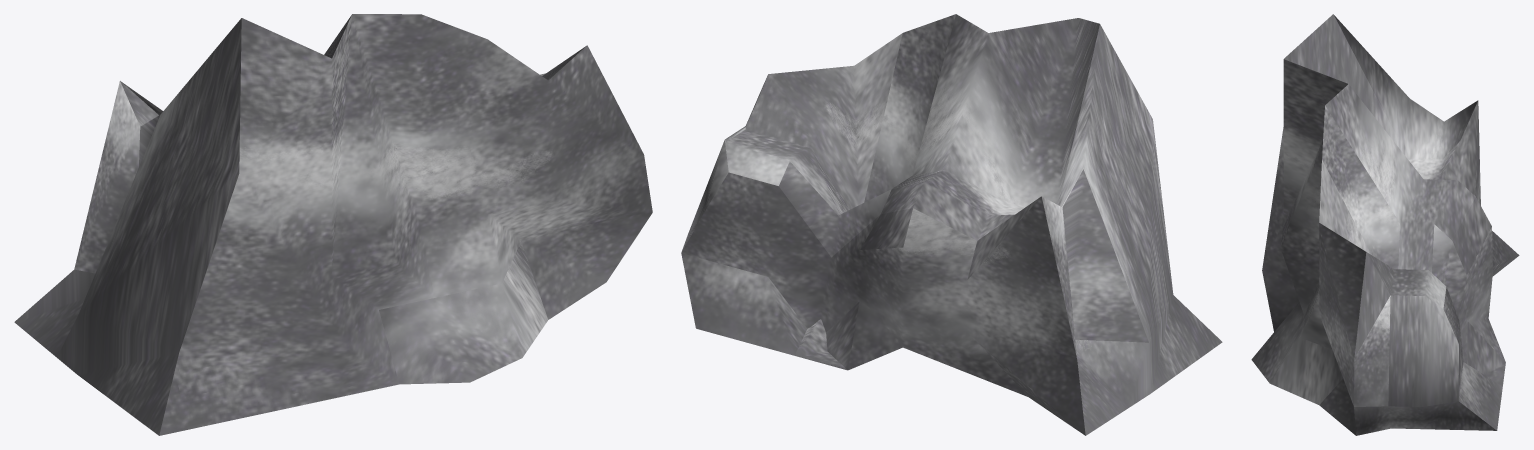
The model's file is Mountain26 - Level 1.FBX.
3 renders of one model, left to right at view 1: azimuth 30°, elevation 25°; view 2: azimuth 150°, elevation 25°; view 3: azimuth 270°, elevation 25°, orthographic. The views are drawn at different scales.
Parts seen in each view (by area): view 1: Mountain 26; view 2: Mountain 26; view 3: Mountain 26.
Boxes of the visible parts, box(x1,y1,x2,y2) form: Mountain 26: box(14, 14, 652, 435); Mountain 26: box(681, 14, 1222, 435); Mountain 26: box(1251, 14, 1519, 435).
Size of the model in its own units: 254 by 166 by 144.
Materials: 1 (1 with a texture image).
